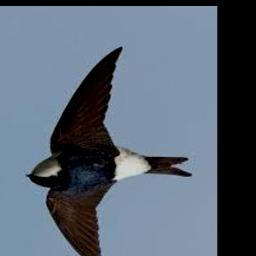Swallow: (25, 48, 193, 256)
